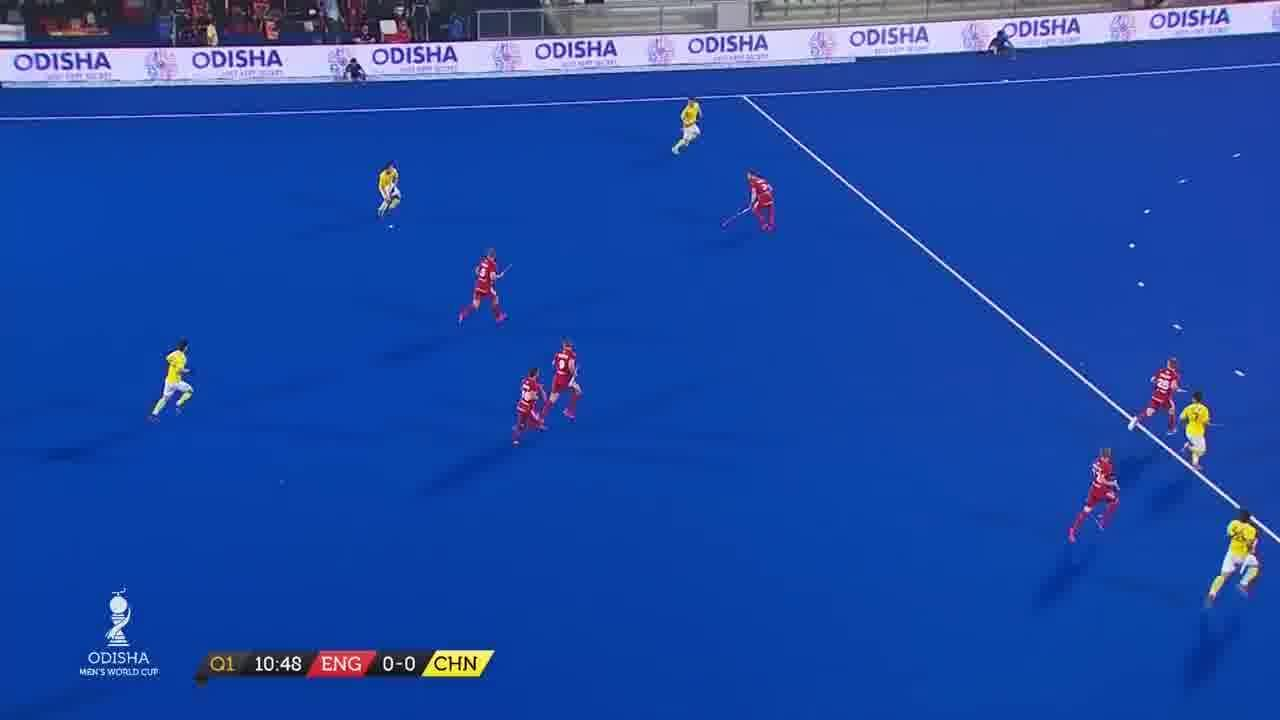ball: (385, 220, 397, 235)
